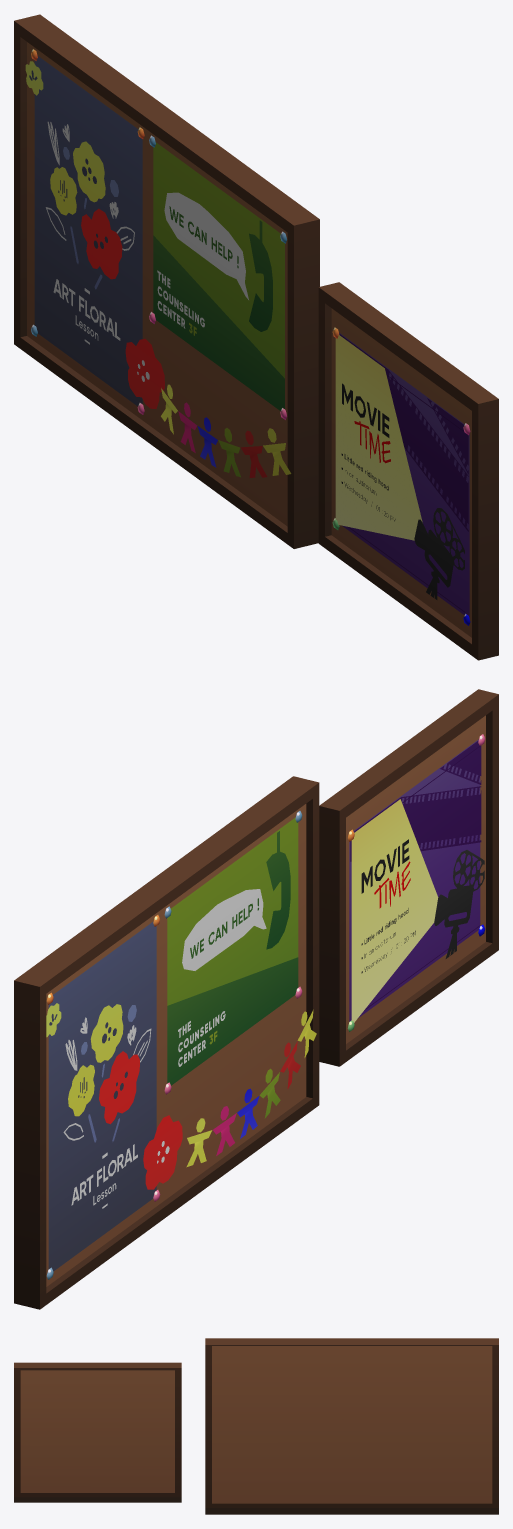
The model's file is CR_Board_003.FBX.
The picture shows the model from 3 angles, top to bottom: view 1: azimuth 30°, elevation 25°; view 2: azimuth 150°, elevation 25°; view 3: azimuth 270°, elevation 25°; orthographic projection. The views are drawn at different scales.
Parts seen in each view (by area): view 1: CR_Board_003; view 2: CR_Board_003; view 3: CR_Board_003.
Part boxes in pixels (bbox=[...]): CR_Board_003: bbox=[14, 14, 498, 660]; CR_Board_003: bbox=[14, 689, 498, 1309]; CR_Board_003: bbox=[14, 1338, 498, 1514].
Bounding box in the file's own units: 15.6 × 142 × 368.
Materials: 1 (1 with a texture image).
